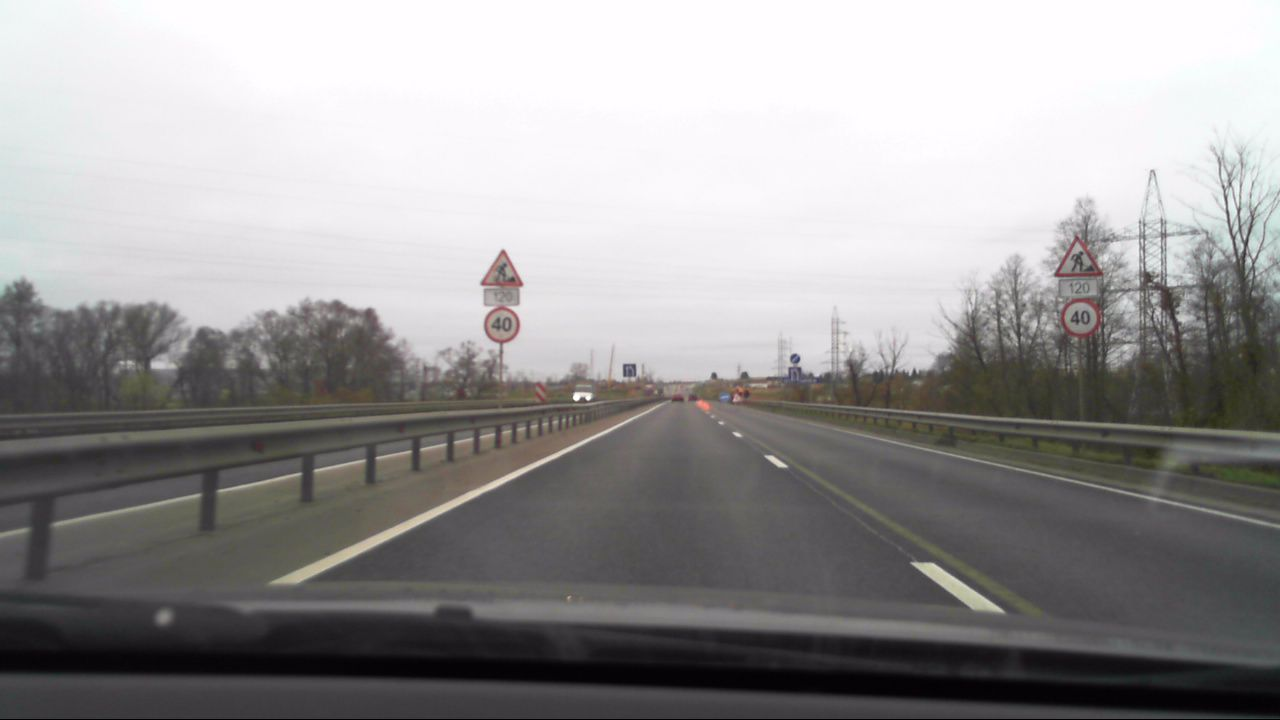speed_warning_40: (483, 306, 520, 343)
